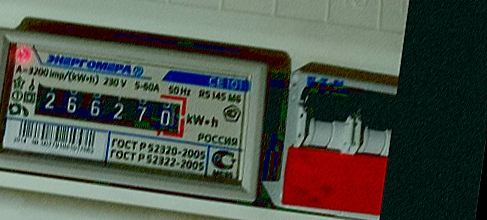0: (157, 106, 170, 127)
2: (41, 88, 57, 111), (110, 99, 125, 121)
6: (63, 93, 78, 114), (87, 96, 102, 117)
7: (133, 102, 147, 123)
screen: (19, 68, 198, 147)
